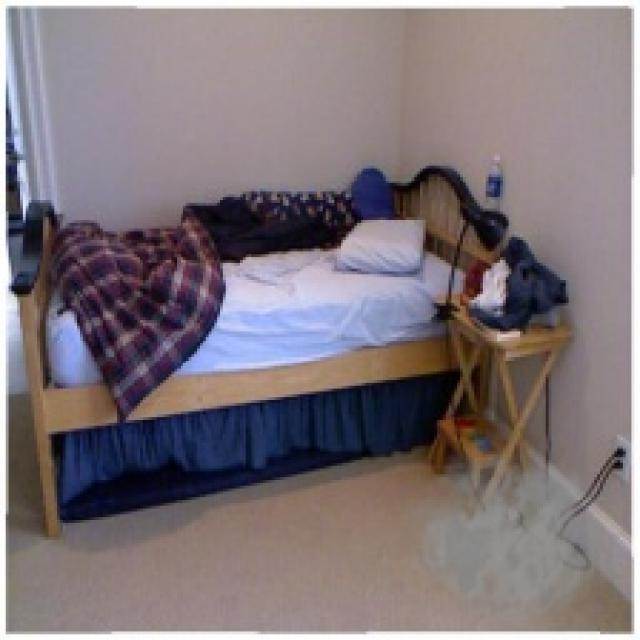Smoke: (399, 428, 612, 632)
